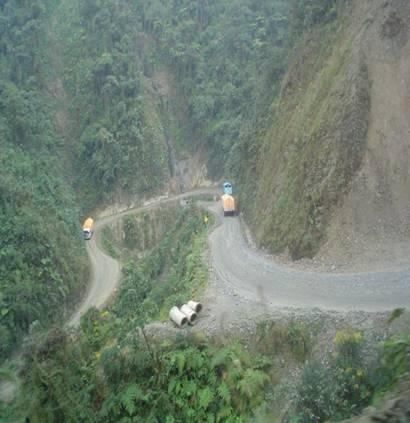truck: (221, 192, 235, 216), (83, 216, 95, 240), (223, 181, 233, 194)
